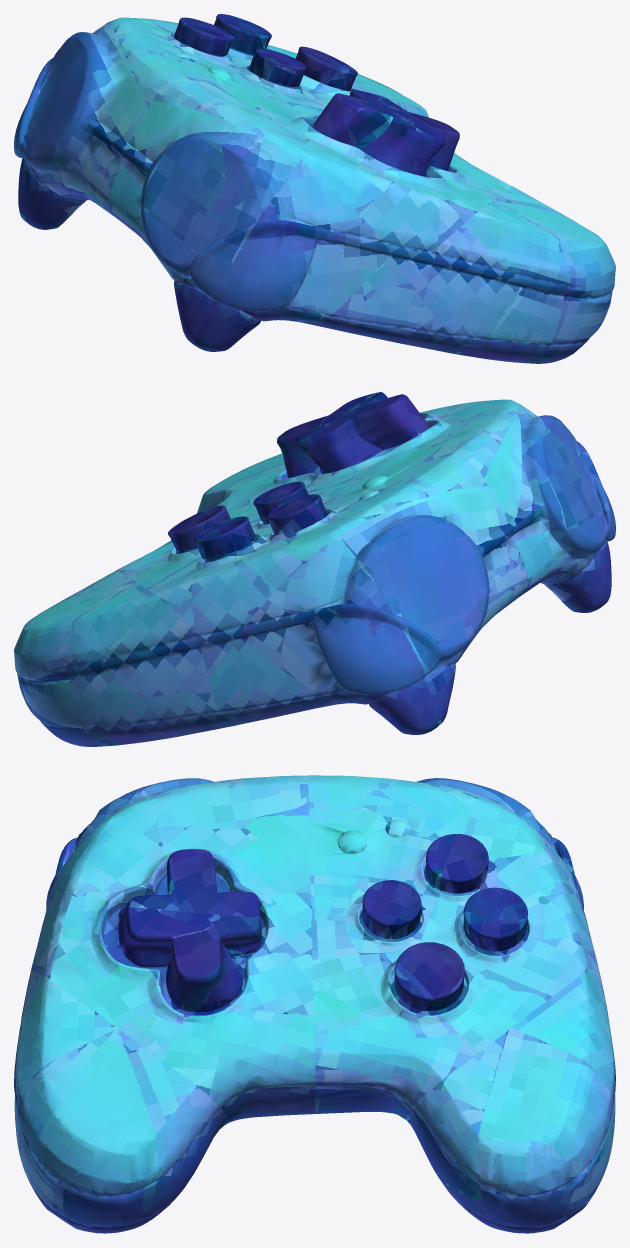
The model's file is prop_controller.glb.
3 views of the same model, one above another, from view 1: azimuth 30°, elevation 25°; view 2: azimuth 150°, elevation 25°; view 3: azimuth 270°, elevation 25° (orthographic). The views are drawn at different scales.
Parts seen in each view (by area): view 1: tripo_node_143158f8-e9ab-44b9-98f1-b383312fccfb; view 2: tripo_node_143158f8-e9ab-44b9-98f1-b383312fccfb; view 3: tripo_node_143158f8-e9ab-44b9-98f1-b383312fccfb.
Boxes of the visible parts, left/top/right/bottom form: tripo_node_143158f8-e9ab-44b9-98f1-b383312fccfb: left=14, top=14, right=615, bottom=363; tripo_node_143158f8-e9ab-44b9-98f1-b383312fccfb: left=14, top=392, right=615, bottom=746; tripo_node_143158f8-e9ab-44b9-98f1-b383312fccfb: left=14, top=775, right=615, bottom=1233.
Bounding box in the file's own units: 0.8737 × 0.5368 × 0.9798.
1 material, 1 textured.
